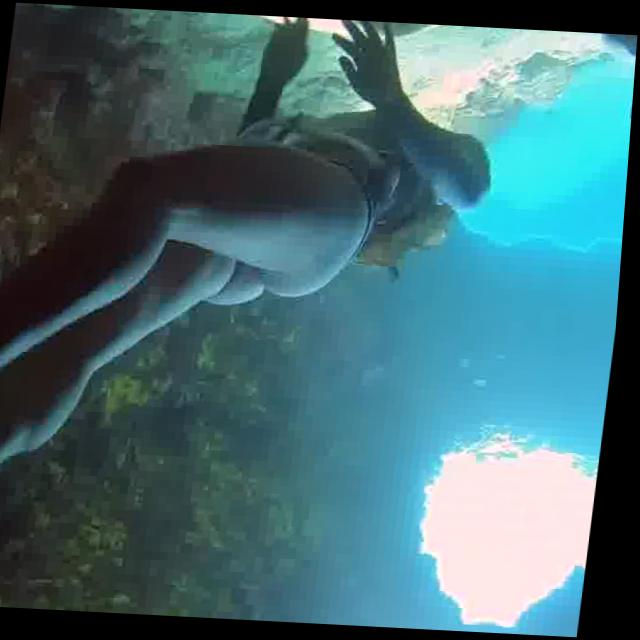human: (0, 3, 515, 630)
